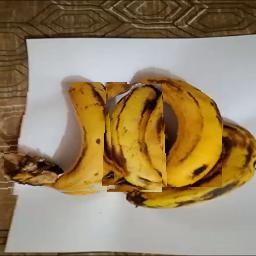Banana Semifresh: (4, 82, 127, 196), (133, 65, 223, 188), (108, 84, 163, 192)
